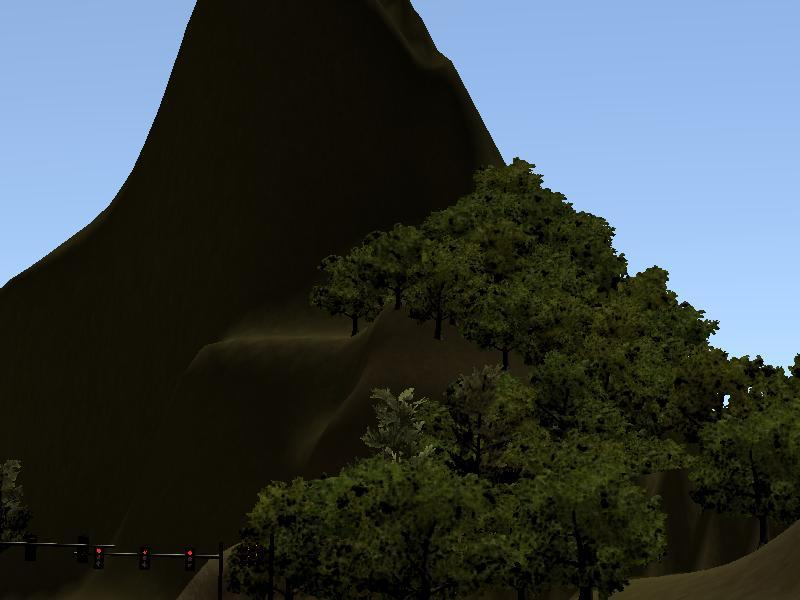Red: (139, 546, 150, 566), (93, 544, 102, 568), (185, 547, 194, 566)
